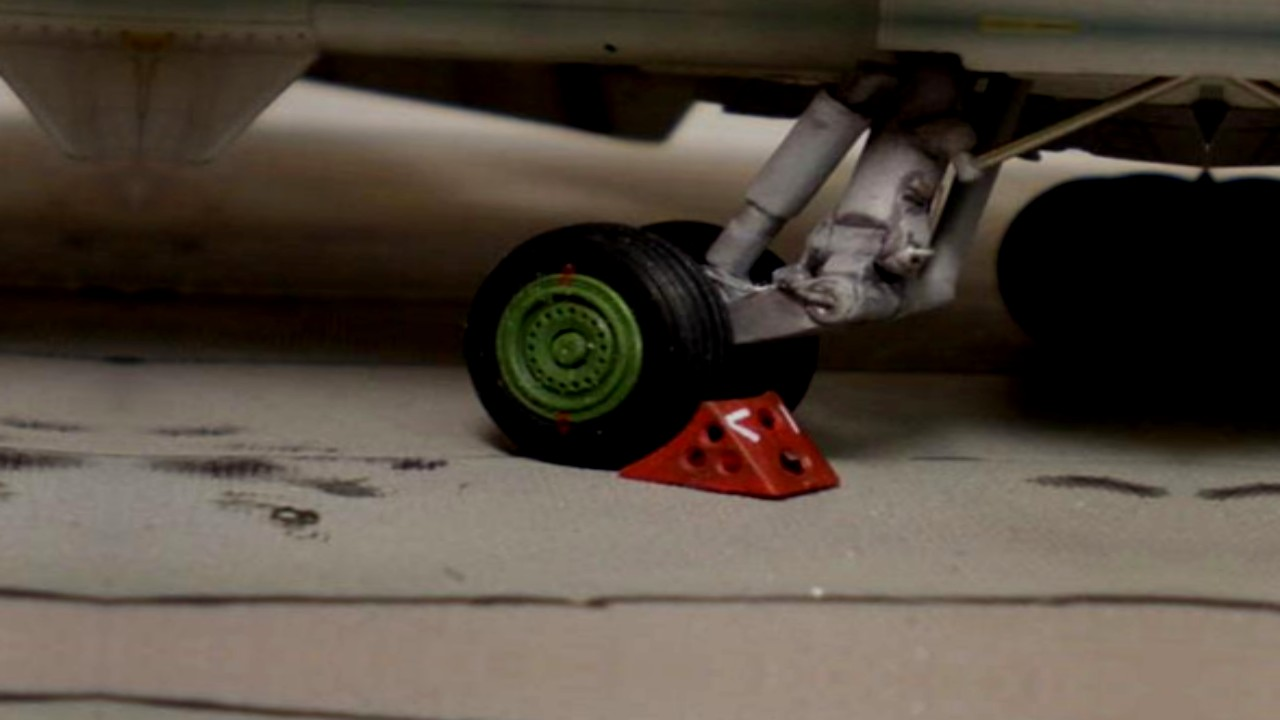chock: (614, 381, 850, 502)
wheel: (451, 216, 741, 473), (988, 170, 1199, 367), (1199, 178, 1280, 375)
